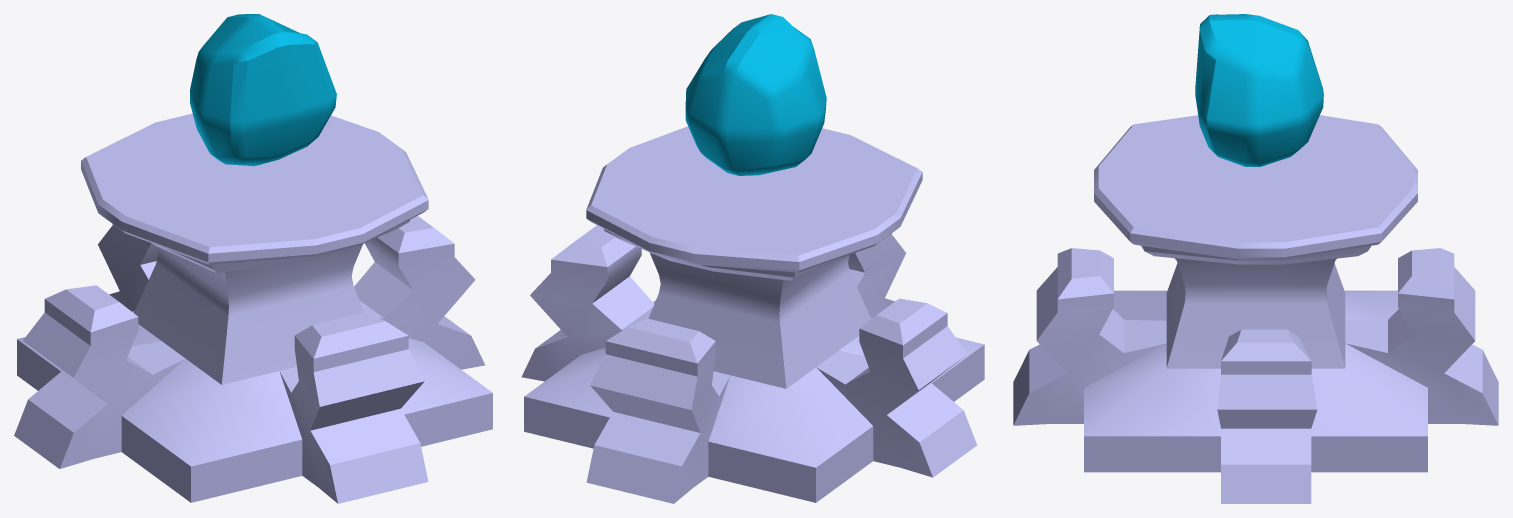
The picture shows the model from 3 angles, left to right: view 1: azimuth 30°, elevation 25°; view 2: azimuth 150°, elevation 25°; view 3: azimuth 270°, elevation 25°; orthographic projection. The views are drawn at different scales.
Visible parts, largest first — view 1: Tower_base, Crystal5; view 2: Tower_base, Crystal5; view 3: Tower_base, Crystal5.
Boxes of the visible parts, <box> form: Tower_base: <box>14,113,492,503</box>; Crystal5: <box>190,14,336,166</box>; Tower_base: <box>521,126,984,503</box>; Crystal5: <box>685,14,826,175</box>; Tower_base: <box>1013,115,1498,503</box>; Crystal5: <box>1195,14,1323,166</box>.
Bounding box in the file's own units: 1.1 × 0.9577 × 1.1.
